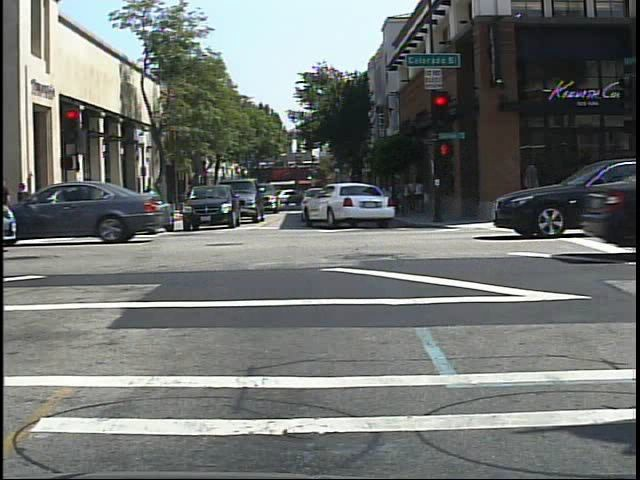person: (101, 186, 115, 227), (144, 181, 159, 213), (140, 181, 155, 213)
